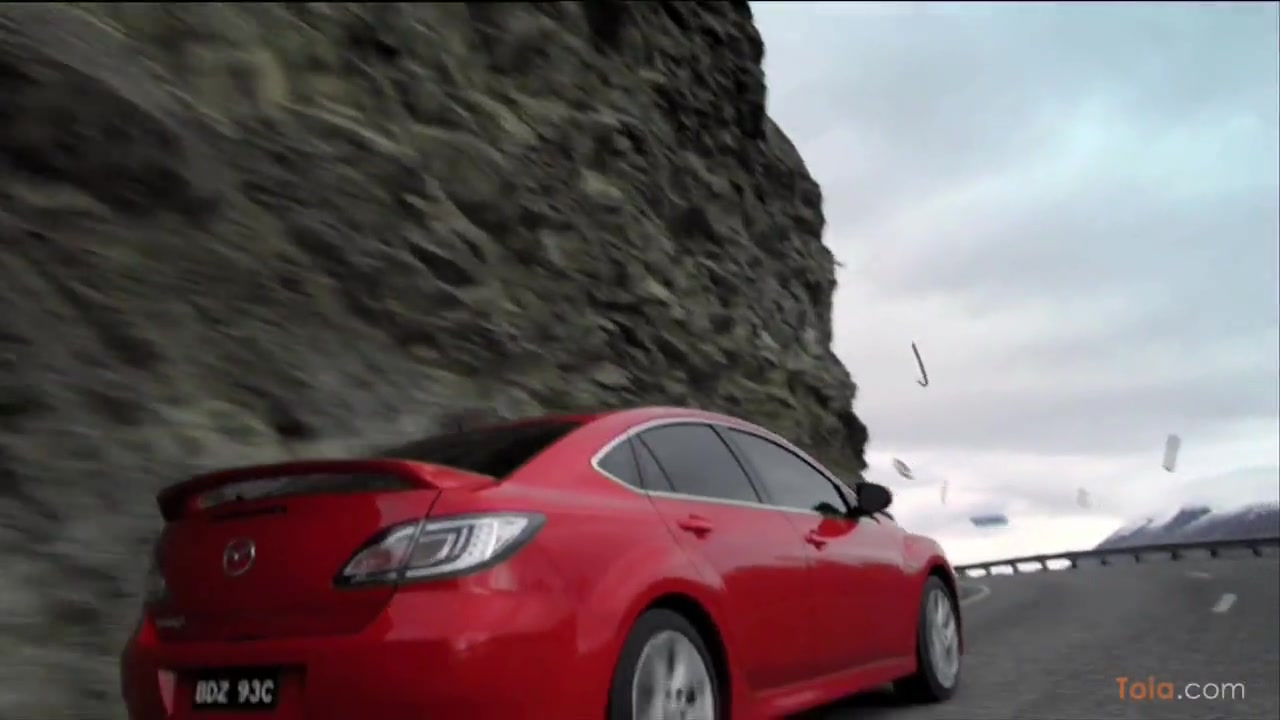car: (116, 401, 971, 720)
